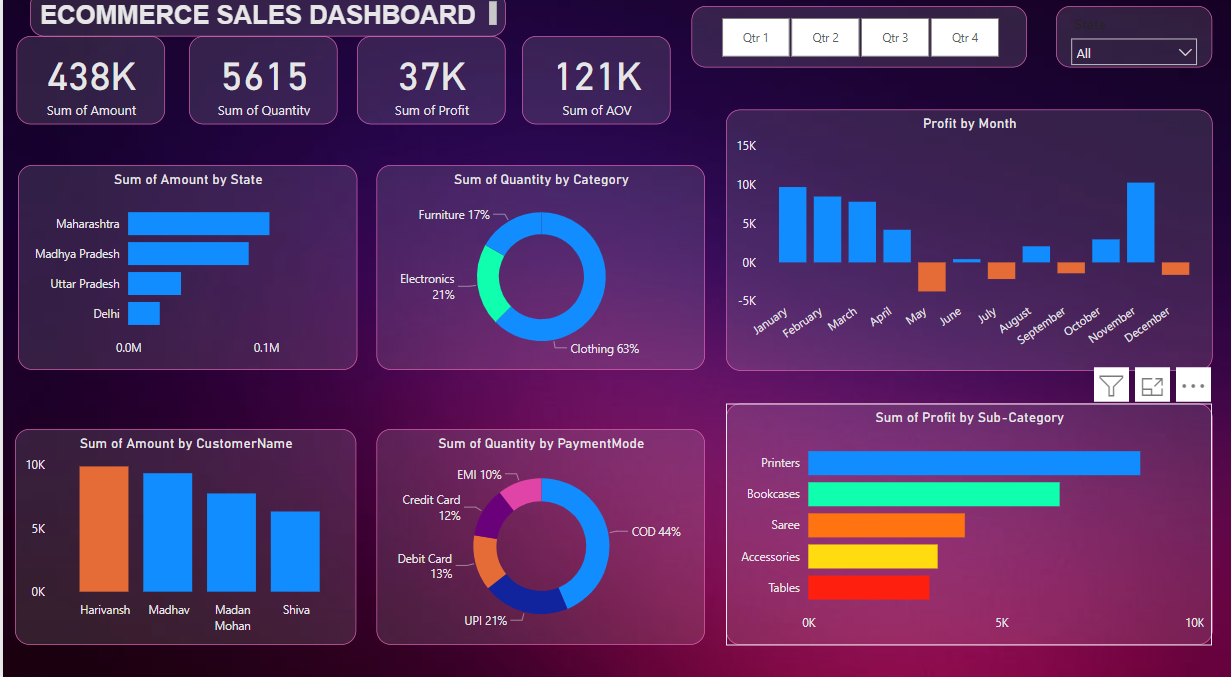

Layout of this report page (visuals, bound fields, positions):
{"tool":"powerbi","page":{"name":"Page 1","canvas":[1280,720],"ordinal":0},"visuals":[{"type":"textbox","box":[28.3,0,495.1,47.2],"z":0},{"type":"columnChart","title":"Profit by Month","fields":{"Category":["Orders.Order Date.Variation.Date Hierarchy.Month"],"Y":["Details.Profit"]},"box":[752.1,122.8,506.5,272.1],"z":1},{"type":"barChart","fields":{"Y":["Details.Profit"],"Category":["Details.Sub-Category"]},"box":[752.1,429,506.5,251.3],"z":2},{"type":"donutChart","fields":{"Category":["Details.Category"],"Y":["Details.Quantity"]},"box":[389.3,181.4,342,213.5],"z":3},{"type":"donutChart","fields":{"Category":["Details.PaymentMode"],"Y":["Details.Quantity"]},"box":[389.3,455.4,342,224.9],"z":4},{"type":"card","fields":{"Values":["Details.Amount"]},"box":[14.1,46.9,154.6,92.1],"z":5},{"type":"card","fields":{"Values":["Details.Quantity"]},"box":[193.7,46.9,154.6,92.1],"z":6},{"type":"card","fields":{"Values":["Details.Profit"]},"box":[368.6,46.9,154.6,92.1],"z":7},{"type":"card","fields":{"Values":["Details.AOV"]},"box":[540.4,46.9,154.6,92.1],"z":8},{"type":"barChart","fields":{"Y":["Details.Amount"],"Category":["Orders.State"]},"box":[15.1,181.4,353.4,213.5],"z":9},{"type":"columnChart","fields":{"Category":["Orders.CustomerName"],"Y":["Details.Amount"]},"box":[13.2,455.4,355.3,224.9],"z":10},{"type":"slicer","fields":{"Values":["Orders.Order Date.Variation.Date Hierarchy.Quarter"]},"box":[716.2,15.1,349.6,64.3],"z":11},{"type":"slicer","fields":{"Values":["Orders.State"]},"box":[1096.1,15.1,162.5,64.3],"z":12}]}

Visuals, with their boxes in screenshot pixels (x1, y1, x2, y2), scaled from the page's 1280x720 canvas onto the 1231x677 screenshot:
textbox: (27,0,503,44)
"Profit by Month" columnChart: (723,115,1210,371)
barChart - Details.Profit x Details.Sub-Category: (723,403,1210,640)
donutChart - Details.Category x Details.Quantity: (374,171,703,371)
donutChart - Details.PaymentMode x Details.Quantity: (374,428,703,640)
card - Details.Amount: (14,44,162,131)
card - Details.Quantity: (186,44,335,131)
card - Details.Profit: (354,44,503,131)
card - Details.AOV: (520,44,668,131)
barChart - Details.Amount x Orders.State: (15,171,354,371)
columnChart - Orders.CustomerName x Details.Amount: (13,428,354,640)
slicer - Orders.Order Date.Variation.Date Hierarchy.Quarter: (689,14,1025,75)
slicer - Orders.State: (1054,14,1210,75)
